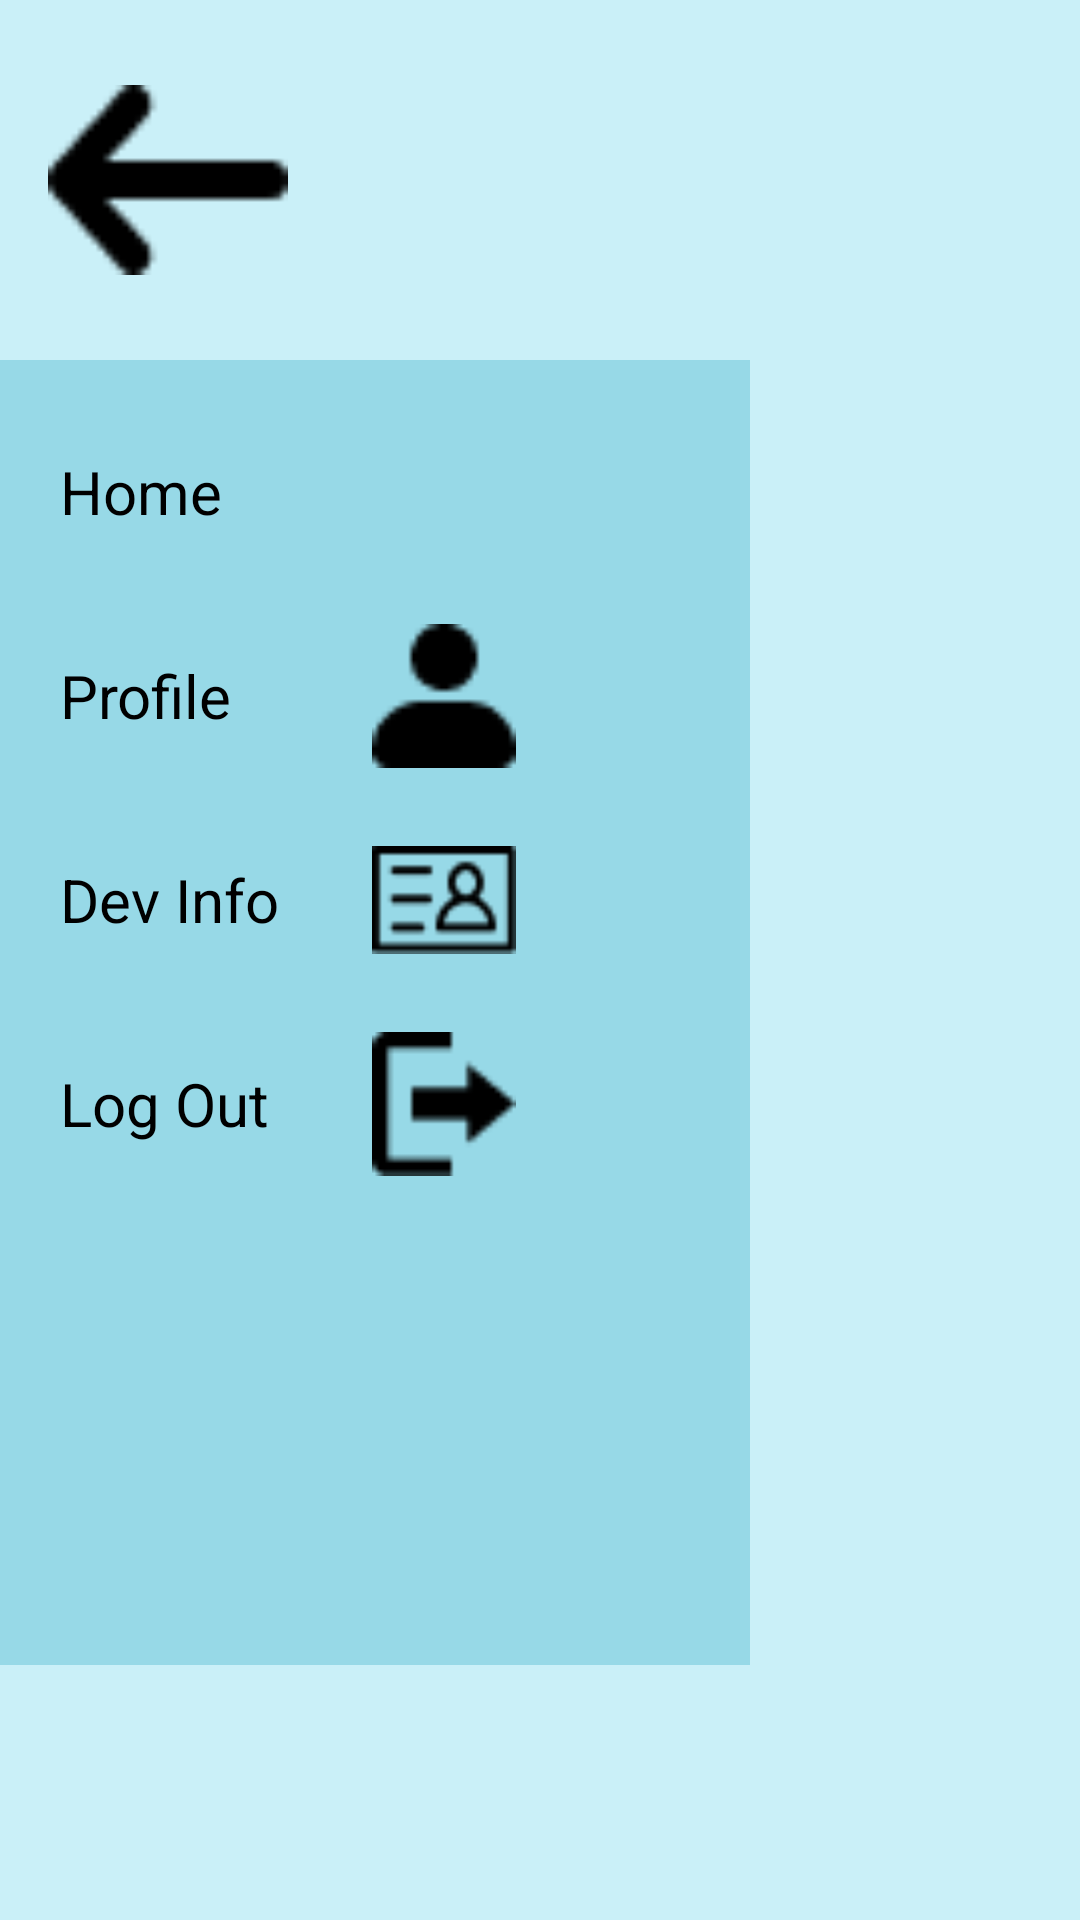

Where icons sit on this 1080×1920 app screen, as detection(x1, y1, x2, y2):
back: detection(48, 85, 288, 275)
Developer Info: detection(372, 846, 516, 954)
